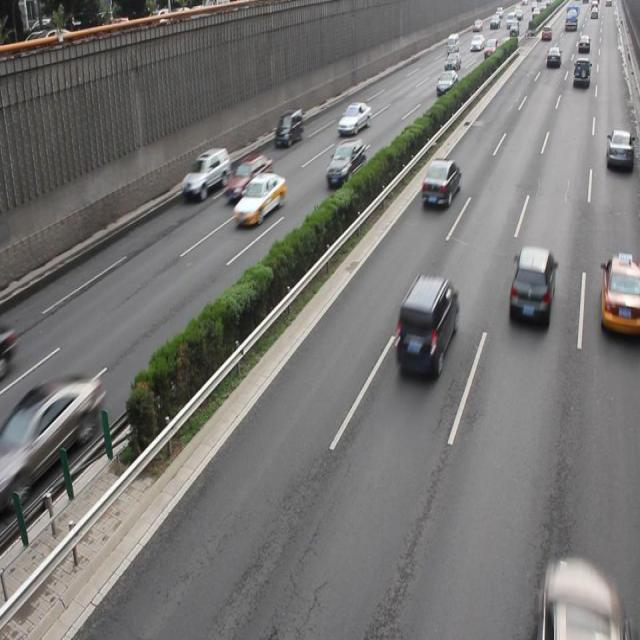car: (0, 372, 100, 490), (541, 558, 615, 640), (507, 245, 555, 328), (598, 255, 640, 338), (232, 171, 284, 226), (181, 146, 230, 200), (222, 151, 272, 202), (419, 157, 460, 209), (324, 139, 364, 186), (605, 126, 632, 170), (337, 100, 370, 135)
truck: (392, 274, 458, 377), (274, 108, 302, 146)
